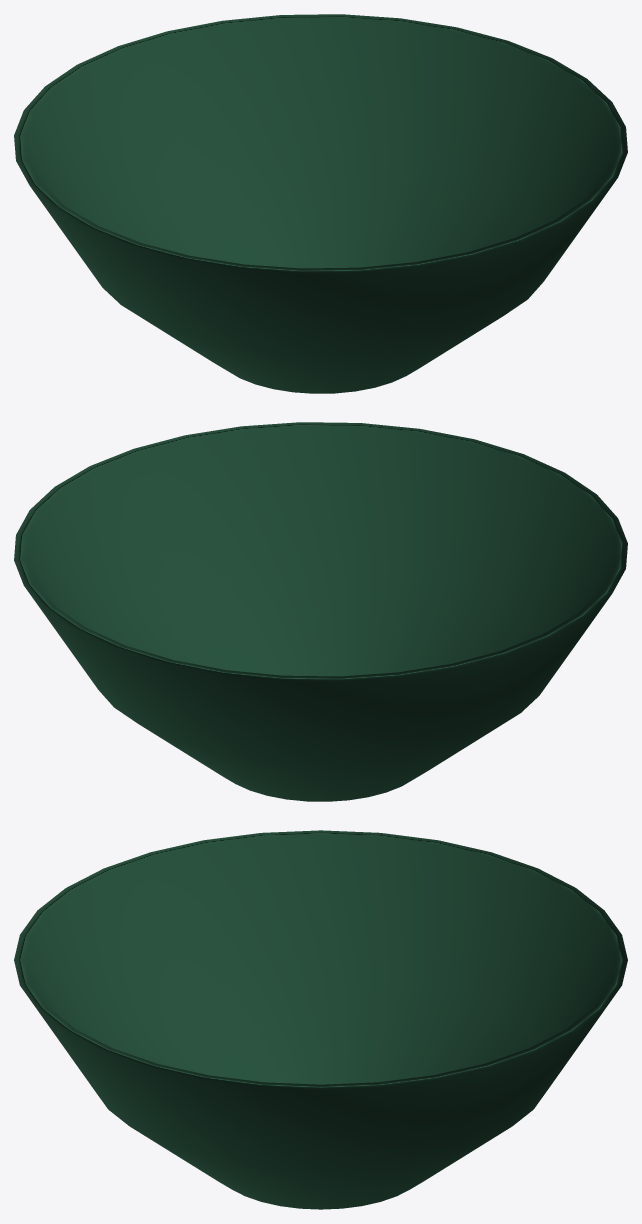
File: BIB-BWL-std.glb
3 renders of one model, top to bottom at view 1: azimuth 30°, elevation 25°; view 2: azimuth 150°, elevation 25°; view 3: azimuth 270°, elevation 25°, orthographic.
Parts seen in each view (by area): view 1: BIB-BWL-std; view 2: BIB-BWL-std; view 3: BIB-BWL-std.
Boxes of the visible parts, box(x1,y1,x2,y2) form: BIB-BWL-std: box(14, 14, 627, 393); BIB-BWL-std: box(14, 422, 627, 801); BIB-BWL-std: box(14, 830, 627, 1209).
Size of the model in its own units: 0.3 by 0.11 by 0.3.
